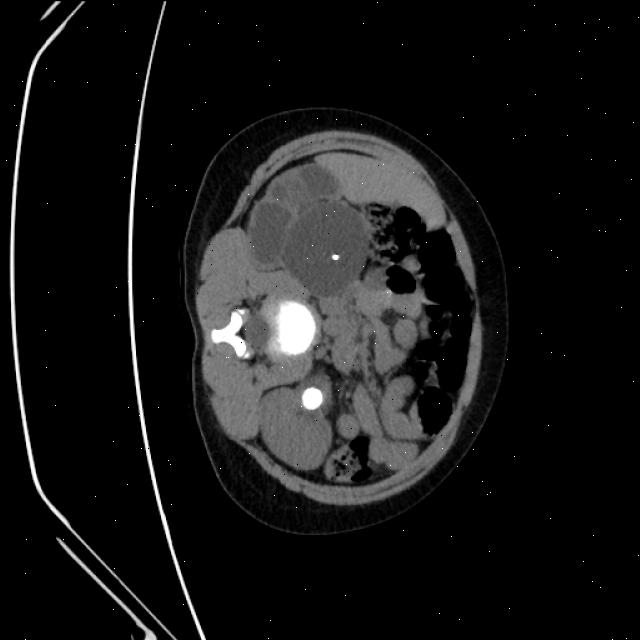kidneystone: (301, 388, 320, 410), (331, 246, 350, 261)
